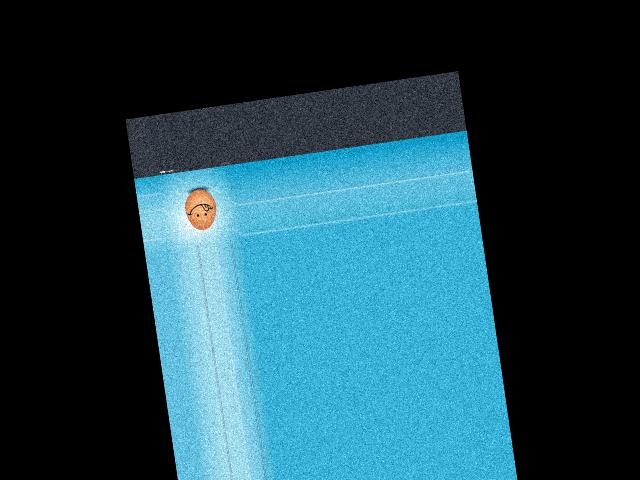egg: (182, 187, 219, 232)
